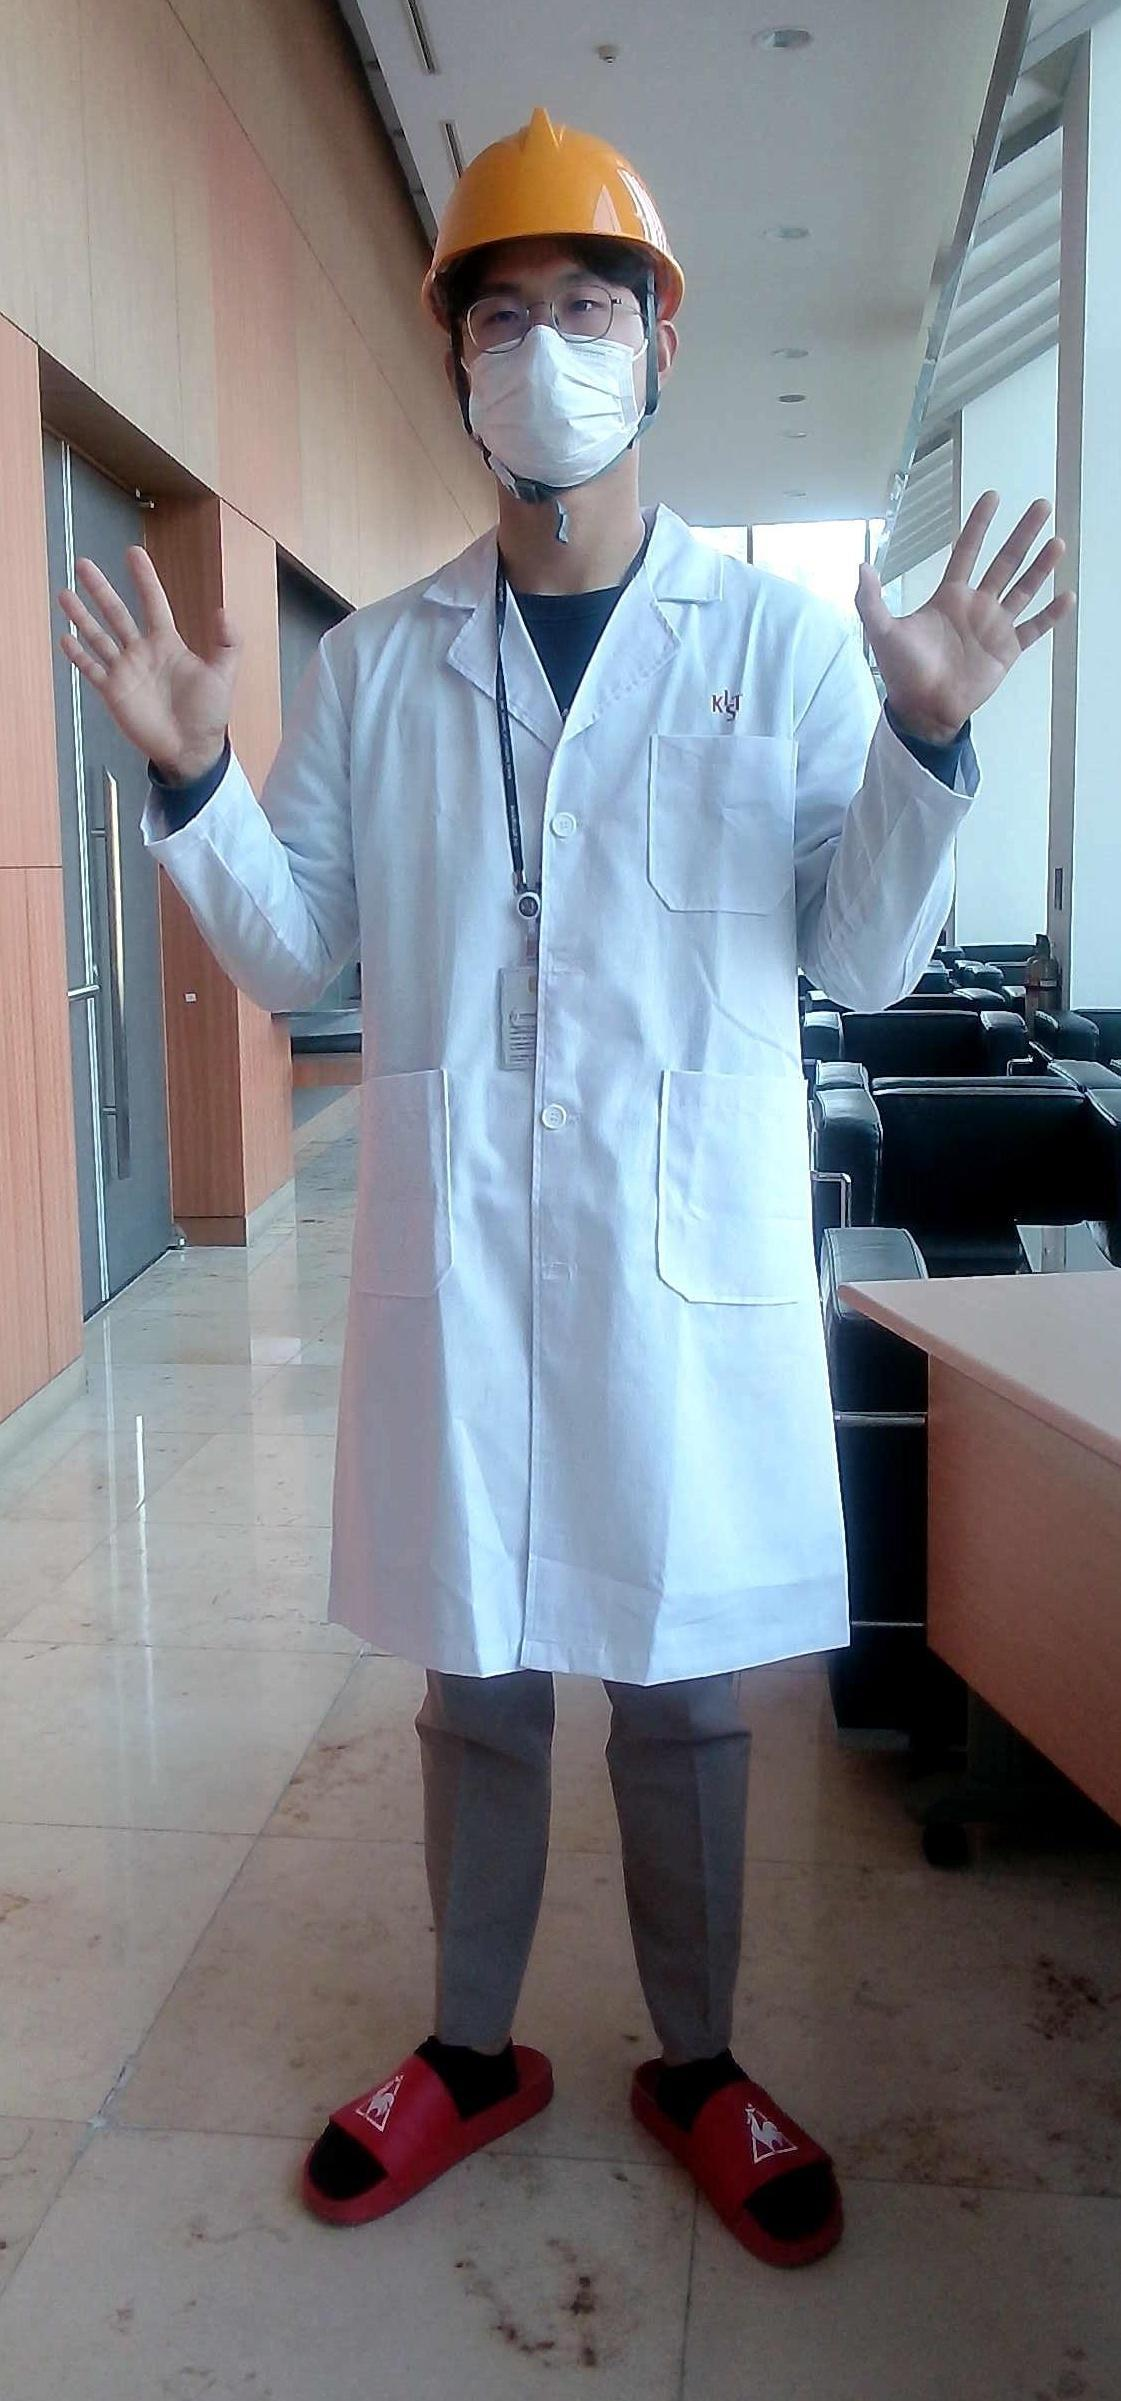lab_coat: (294, 533, 855, 1666)
